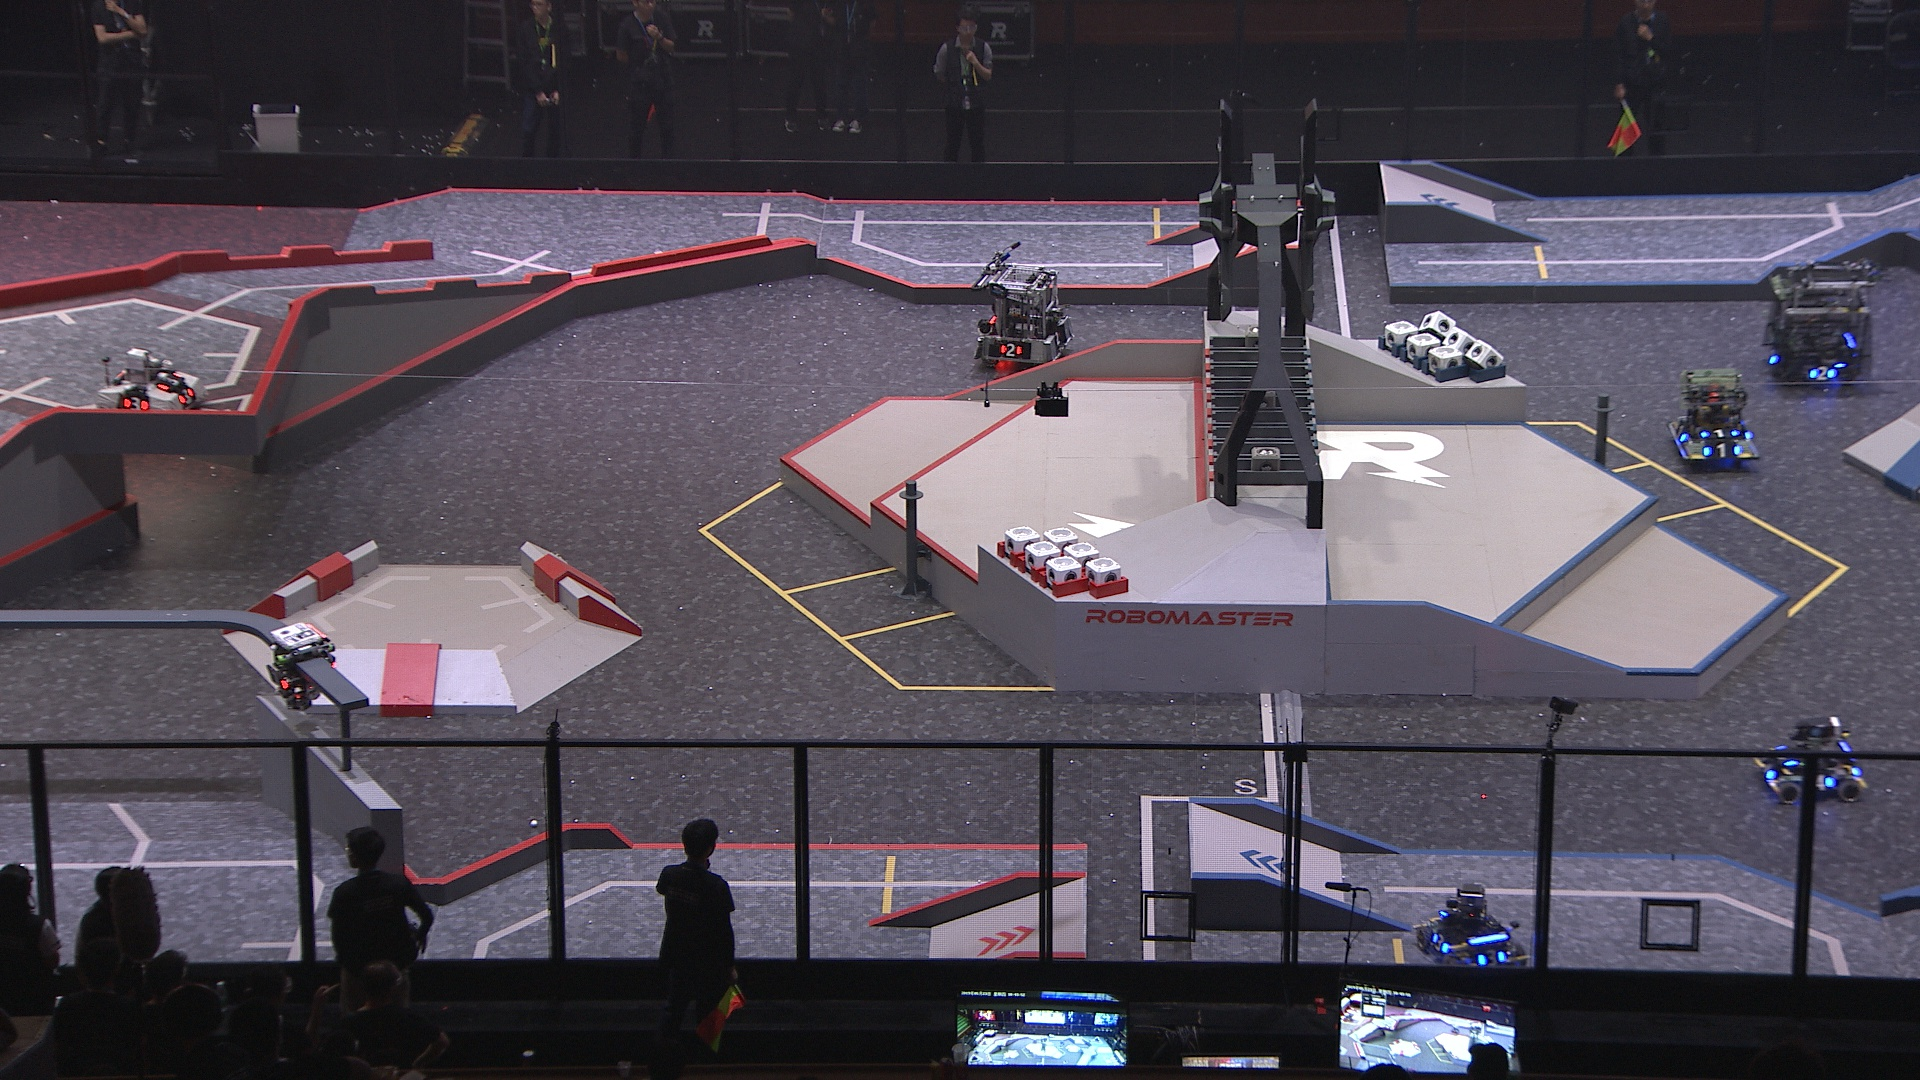armor: (262, 665, 294, 694), (1702, 439, 1742, 462), (1474, 945, 1509, 971), (1428, 927, 1453, 957), (154, 371, 185, 392), (1807, 363, 1837, 384), (1808, 771, 1833, 796), (120, 394, 152, 414), (998, 339, 1025, 360), (1698, 425, 1741, 438), (174, 385, 196, 407), (1760, 342, 1780, 365), (1046, 328, 1068, 348), (1673, 419, 1689, 443), (1759, 760, 1778, 779)
car: (1762, 258, 1870, 390), (973, 258, 1076, 371), (1753, 709, 1869, 807), (1416, 880, 1528, 977), (1667, 365, 1764, 469), (92, 344, 210, 425)
watcher: (262, 618, 334, 712)
